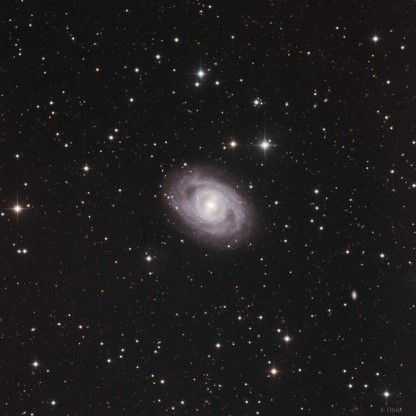Messier 95: (154, 158, 261, 258)
